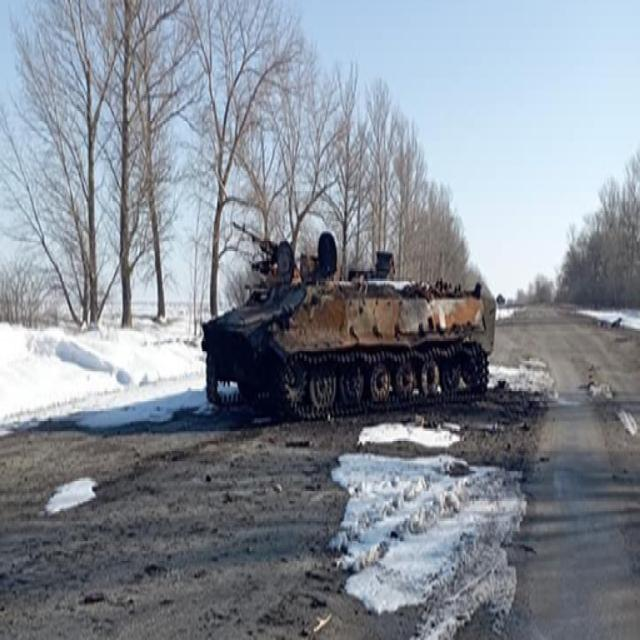APC-IFV: (198, 213, 498, 418)
